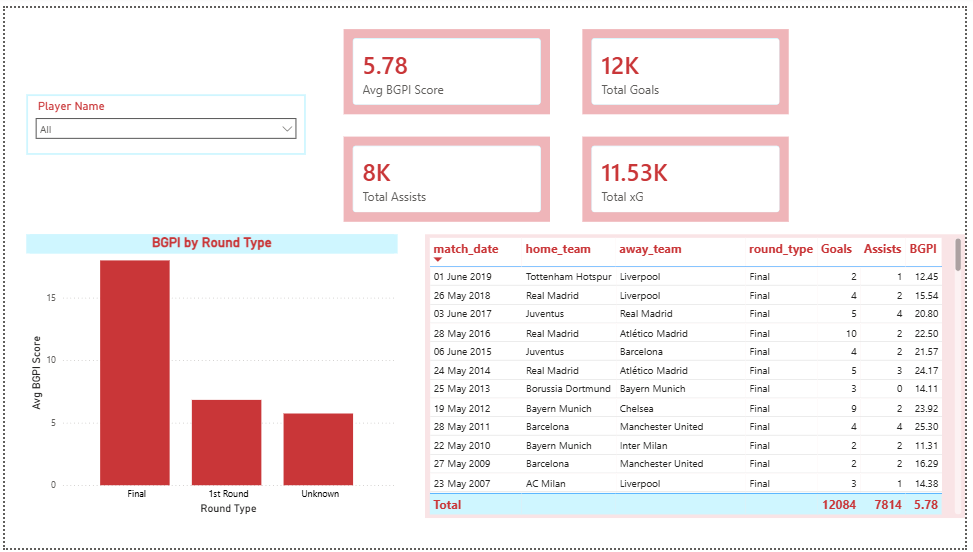

Layout of this report page (visuals, bound fields, positions):
{"tool":"powerbi","page":{"name":"Player Deep Dive","canvas":[1280,720],"ordinal":1},"visuals":[{"type":"slicer","title":"Player Slicer ","fields":{"Values":["public players.name"]},"box":[28,114.9,372.7,81],"z":0},{"type":"cardVisual","fields":{"Data":["Avg(public bgpi_scores.bgpi_normalised)"]},"box":[445.9,23.6,285.5,123.3],"z":1000},{"type":"clusteredColumnChart","title":"BGPI by Round Type","fields":{"Category":["public matches.round_type"],"Y":["Avg(public bgpi_scores.bgpi_normalised)"]},"box":[28,302,495,378.6],"z":4001},{"type":"tableEx","fields":{"Values":["public matches.match_date1","public matches.home_team","public matches.away_team","public matches.round_type","Sum(public player_match_stats.goals)","Sum(public player_match_stats.assists)","Avg(public bgpi_scores.bgpi_normalised)"]},"box":[559.9,302,720.4,378.6],"z":4002},{"type":"cardVisual","fields":{"Data":["Sum(public player_match_stats.goals)"]},"box":[765.2,23.6,285.5,123.3],"z":4003},{"type":"cardVisual","fields":{"Data":["Sum(public player_match_stats.assists)"]},"box":[445.9,167.2,285.5,123.3],"z":4004},{"type":"cardVisual","fields":{"Data":["Sum(public player_match_stats.xg)"]},"box":[765.2,167.2,285.5,123.3],"z":4005}]}

Visuals, with their boxes in screenshot pixels (x1, y1, x2, y2), scaled from the page's 1280x720 canvas onto the 973x552 screenshot:
"Player Slicer " slicer: BBox(21, 88, 305, 150)
cardVisual - Avg(public bgpi_scores.bgpi_normalised): BBox(339, 18, 556, 113)
"BGPI by Round Type" clusteredColumnChart: BBox(21, 232, 398, 522)
tableEx - public matches.match_date1 x public matches.home_team: BBox(426, 232, 972, 522)
cardVisual - Sum(public player_match_stats.goals): BBox(582, 18, 799, 113)
cardVisual - Sum(public player_match_stats.assists): BBox(339, 128, 556, 223)
cardVisual - Sum(public player_match_stats.xg): BBox(582, 128, 799, 223)
